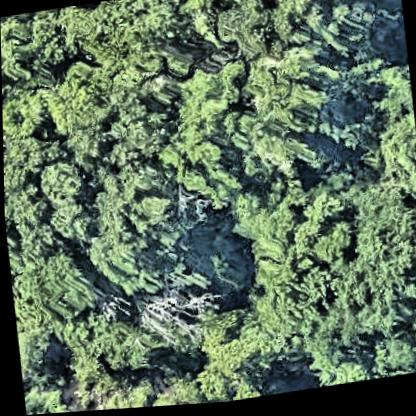tree-top: (302, 193, 416, 354), (222, 44, 334, 189), (243, 211, 331, 356), (9, 243, 105, 336), (213, 0, 342, 65), (161, 68, 234, 178), (188, 308, 272, 385), (370, 63, 416, 203), (0, 9, 67, 94), (84, 314, 161, 376), (30, 156, 86, 213)
